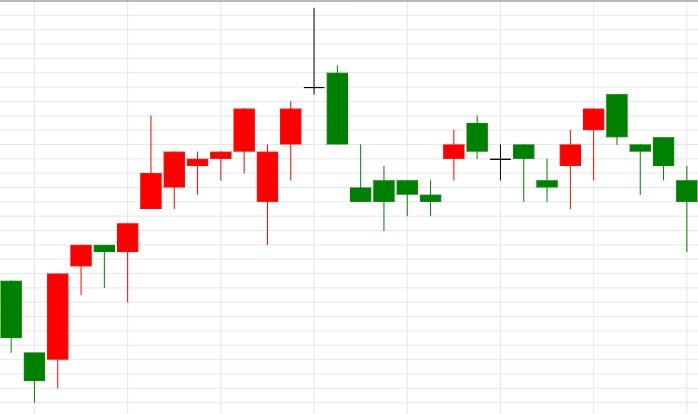shooting_star_fall: (46, 115, 162, 388)
